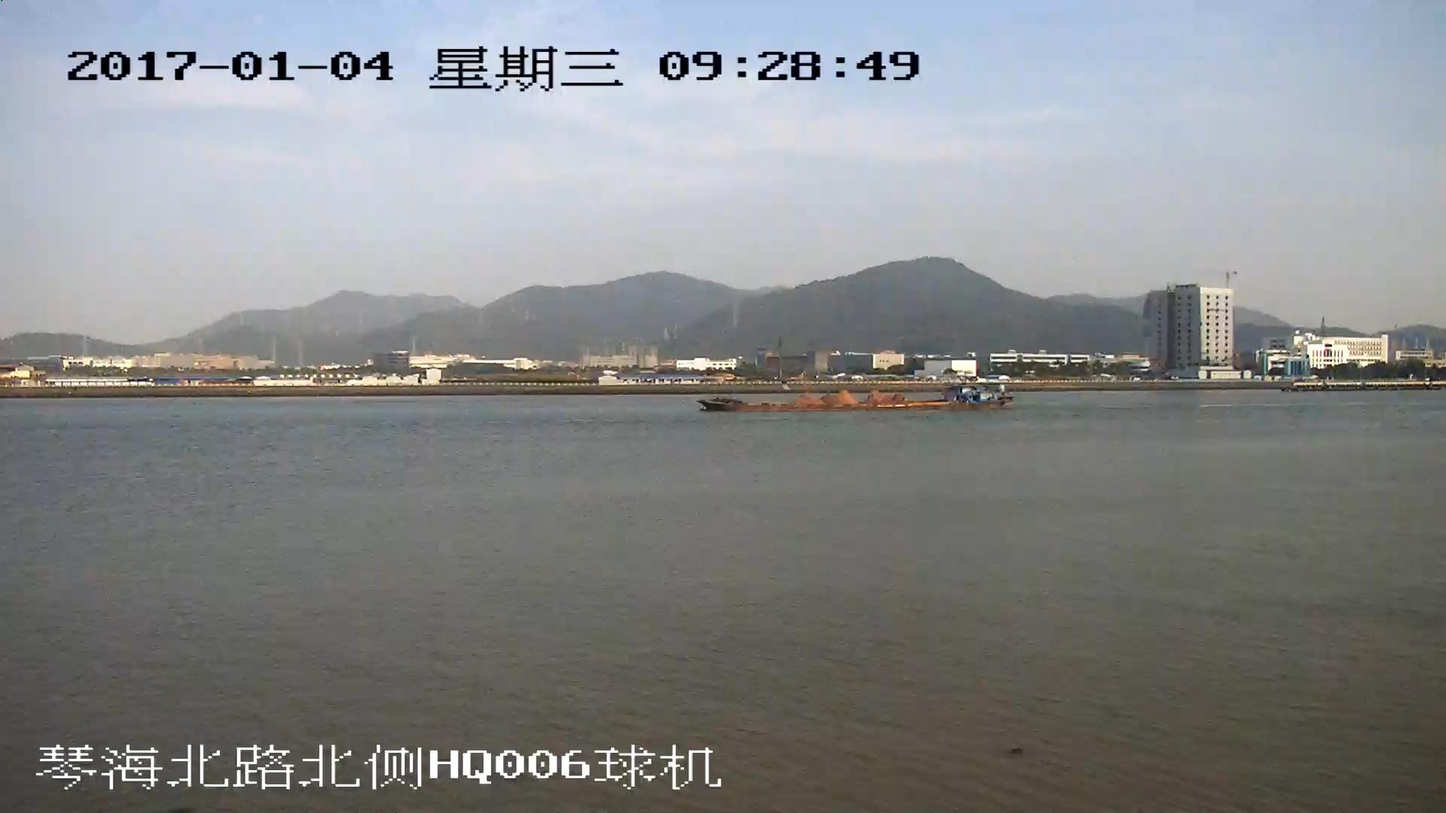ore carrier: (703, 384, 1010, 408)
